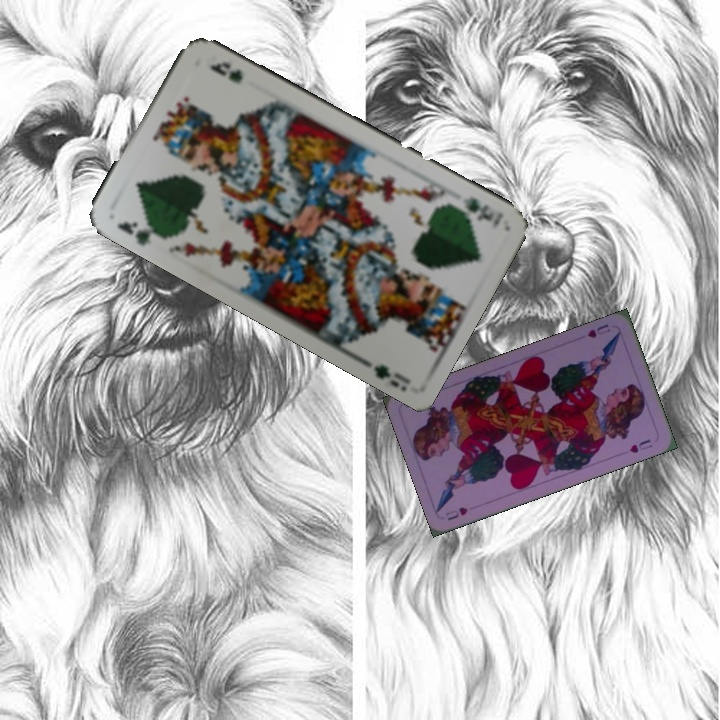GK: (447, 192, 506, 232), (113, 217, 163, 248)
HU: (583, 320, 613, 341), (441, 503, 470, 523)
